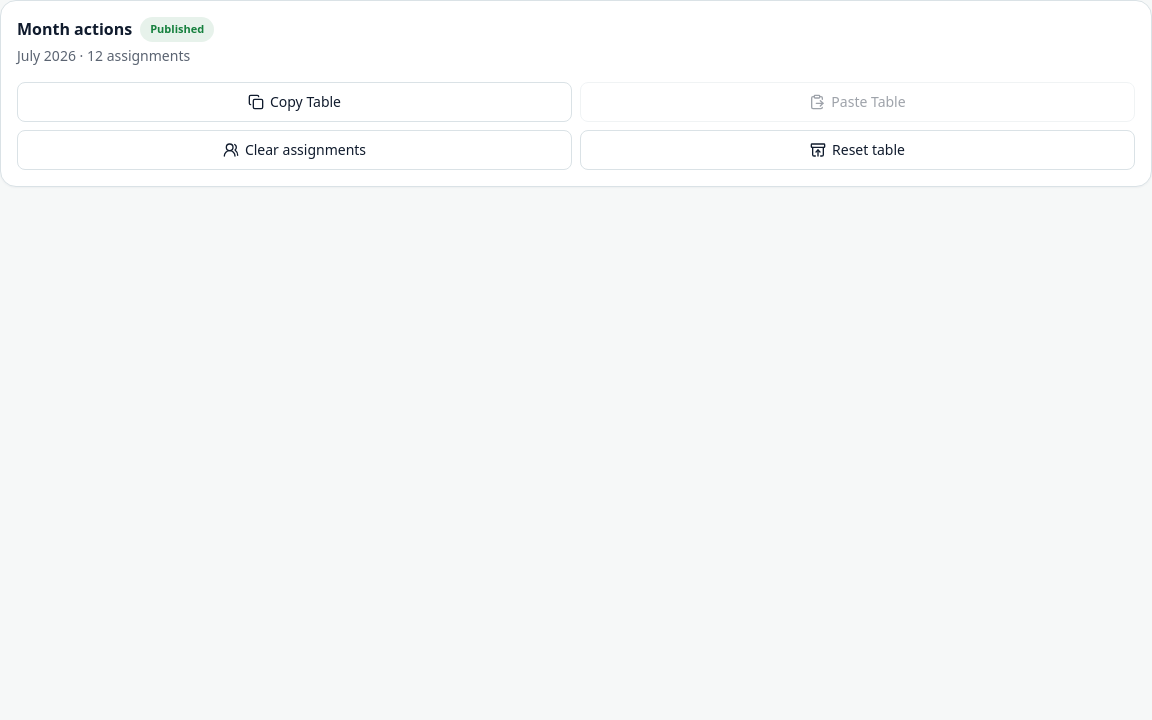
Test case: AdminMonthControl › keeps the confirmation input focused while typing CLEAR and executes the action
Click the button "Clear assignments". click: click(294, 150)
box: x1=17 y1=130 x2=572 y2=170
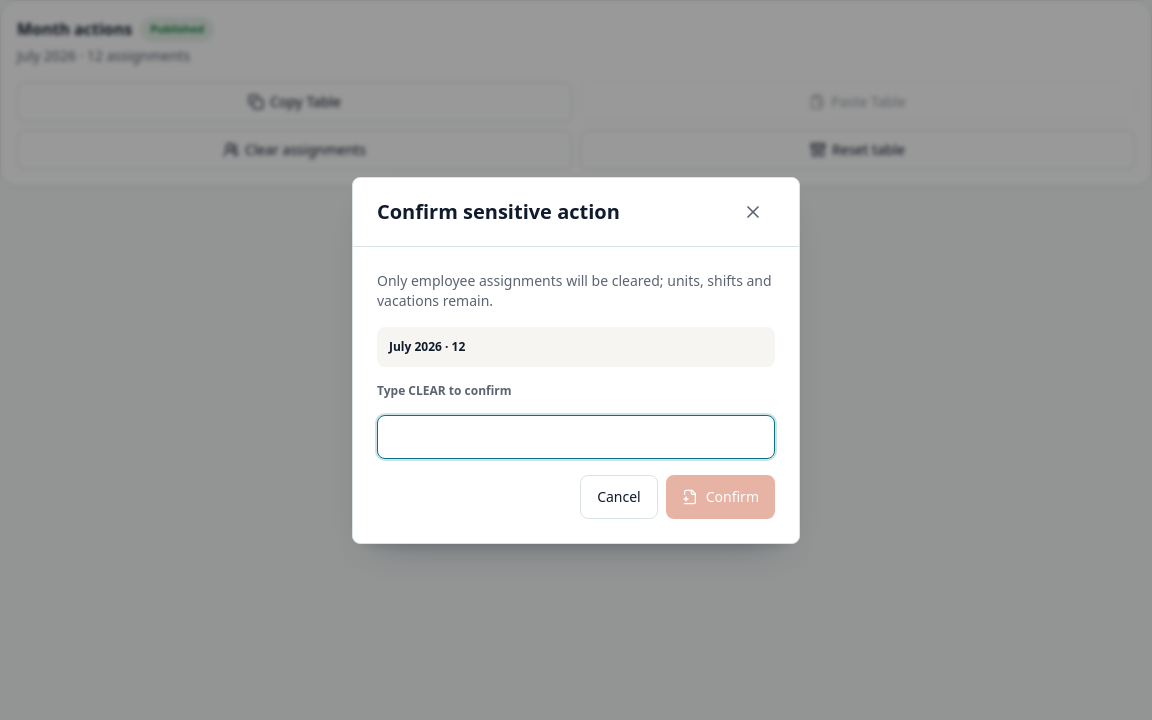
Type "CLEAR" into the field labelled "Type CLEAR to confirm". click: (576, 436)
box: x1=377 y1=414 x2=775 y2=458
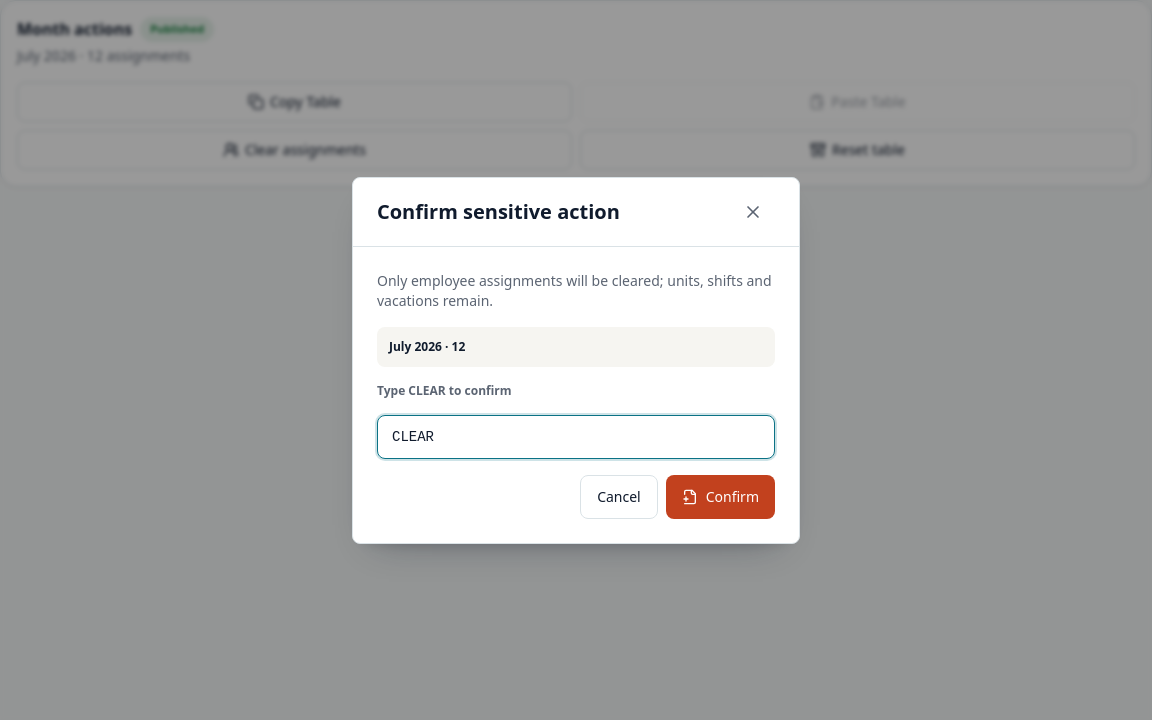
Click the button "Confirm". click: click(720, 496)
box: x1=666 y1=474 x2=775 y2=518
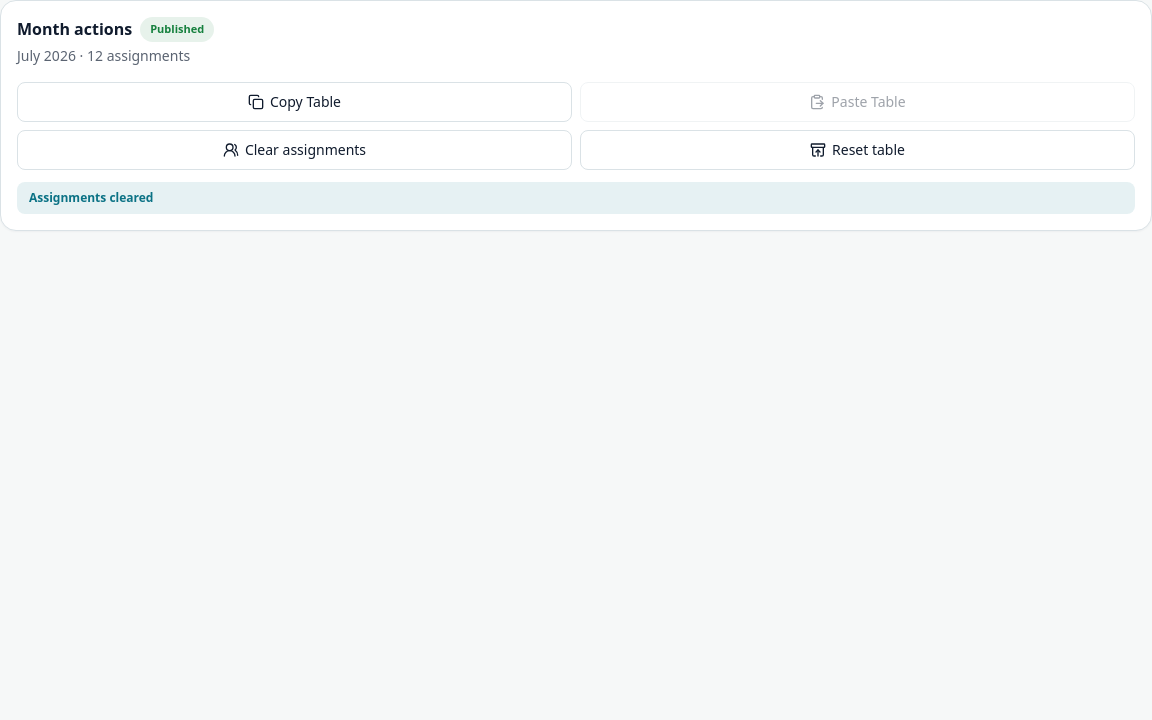
Now the label labelled "Type CLEAR to confirm" is gone
